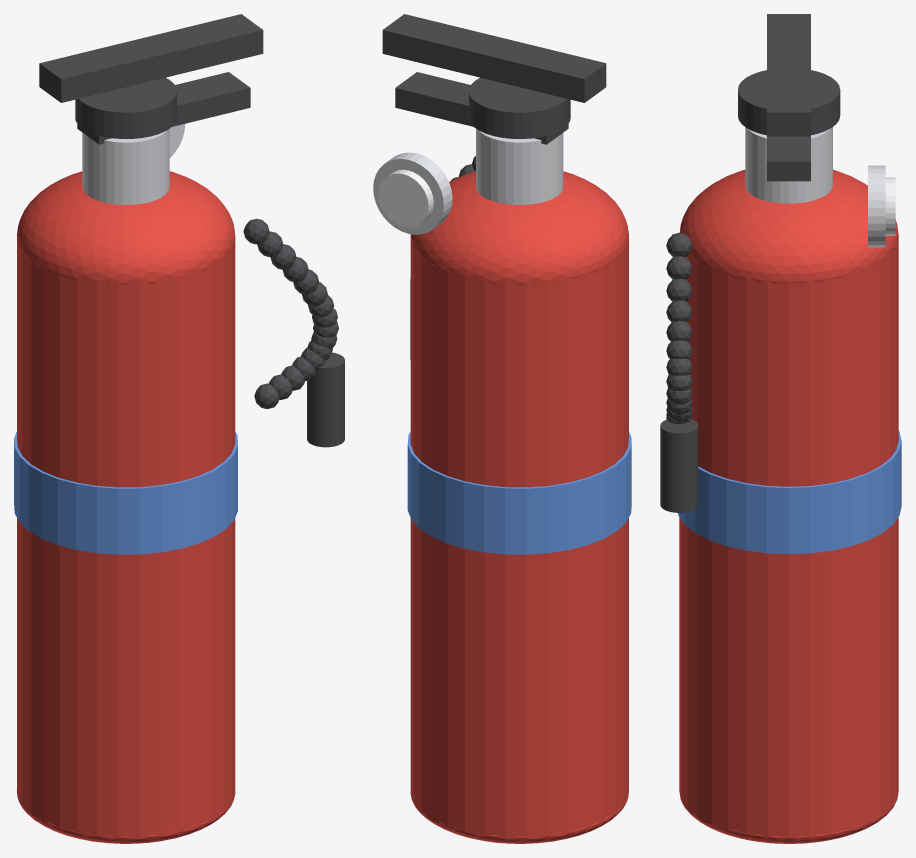
The model's file is extinguisher_powder.glb.
3 views of the same model, side by side, from view 1: azimuth 30°, elevation 25°; view 2: azimuth 150°, elevation 25°; view 3: azimuth 270°, elevation 25° (orthographic).
Parts seen in each view (by area): view 1: extinguisher_powder_0, extinguisher_powder_1, extinguisher_powder_3, extinguisher_powder_6, extinguisher_powder_4, extinguisher_powder_5, extinguisher_powder_26, extinguisher_powder_7, extinguisher_powder_2; view 2: extinguisher_powder_0, extinguisher_powder_1, extinguisher_powder_3, extinguisher_powder_6, extinguisher_powder_4, extinguisher_powder_5, extinguisher_powder_7, extinguisher_powder_8, extinguisher_powder_9, extinguisher_powder_2; view 3: extinguisher_powder_0, extinguisher_powder_1, extinguisher_powder_3, extinguisher_powder_6, extinguisher_powder_4, extinguisher_powder_26, extinguisher_powder_5, extinguisher_powder_7, extinguisher_powder_8, extinguisher_powder_2, extinguisher_powder_9, extinguisher_powder_10 (+4 smaller).
Boxes of the visible parts, box(x1,y1,x2,y2) form: extinguisher_powder_0: box(17, 239, 235, 837); extinguisher_powder_1: box(16, 171, 235, 286); extinguisher_powder_3: box(14, 431, 237, 554); extinguisher_powder_6: box(39, 14, 263, 102); extinguisher_powder_4: box(82, 129, 169, 205); extinguisher_powder_5: box(75, 77, 176, 138); extinguisher_powder_26: box(307, 352, 344, 447); extinguisher_powder_7: box(77, 72, 250, 144); extinguisher_powder_2: box(16, 790, 234, 843); extinguisher_powder_0: box(410, 238, 628, 837); extinguisher_powder_1: box(410, 171, 628, 286); extinguisher_powder_3: box(407, 431, 631, 554); extinguisher_powder_6: box(382, 14, 606, 102); extinguisher_powder_4: box(476, 128, 563, 205); extinguisher_powder_5: box(469, 77, 570, 138); extinguisher_powder_7: box(395, 72, 568, 144); extinguisher_powder_8: box(373, 152, 452, 234); extinguisher_powder_9: box(378, 169, 433, 227); extinguisher_powder_2: box(411, 789, 628, 843); extinguisher_powder_0: box(679, 236, 898, 837); extinguisher_powder_1: box(679, 169, 898, 284); extinguisher_powder_3: box(678, 430, 901, 554); extinguisher_powder_6: box(767, 14, 810, 136); extinguisher_powder_4: box(745, 127, 832, 203); extinguisher_powder_26: box(660, 419, 698, 512); extinguisher_powder_5: box(738, 70, 840, 135); extinguisher_powder_7: box(767, 136, 810, 181); extinguisher_powder_8: box(868, 165, 885, 247); extinguisher_powder_2: box(679, 793, 898, 843); extinguisher_powder_9: box(885, 177, 895, 235); extinguisher_powder_10: box(666, 232, 692, 256).
Size of the model in its own units: 0.205 by 0.5778 by 0.165.
